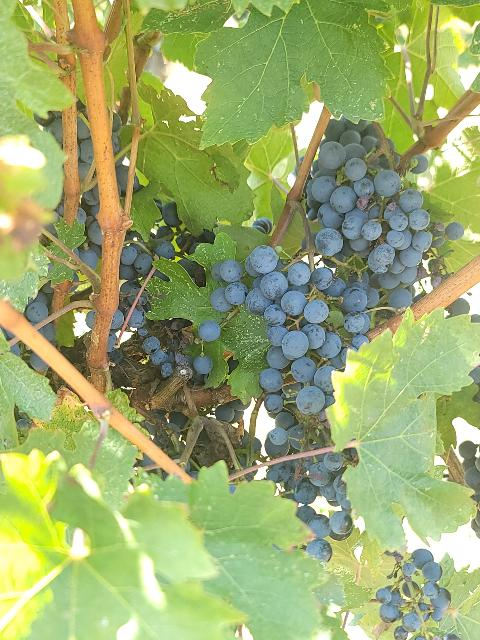grapes: (210, 245, 370, 414), (305, 119, 462, 289)
